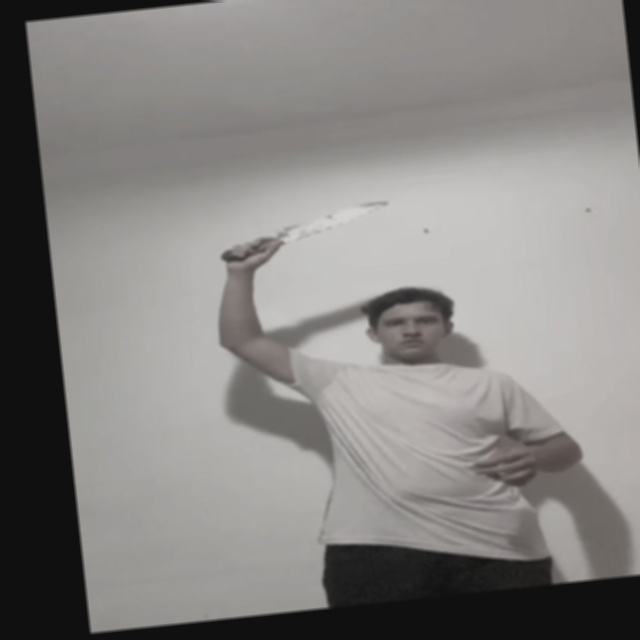Sharp-Object: (270, 198, 392, 239)
